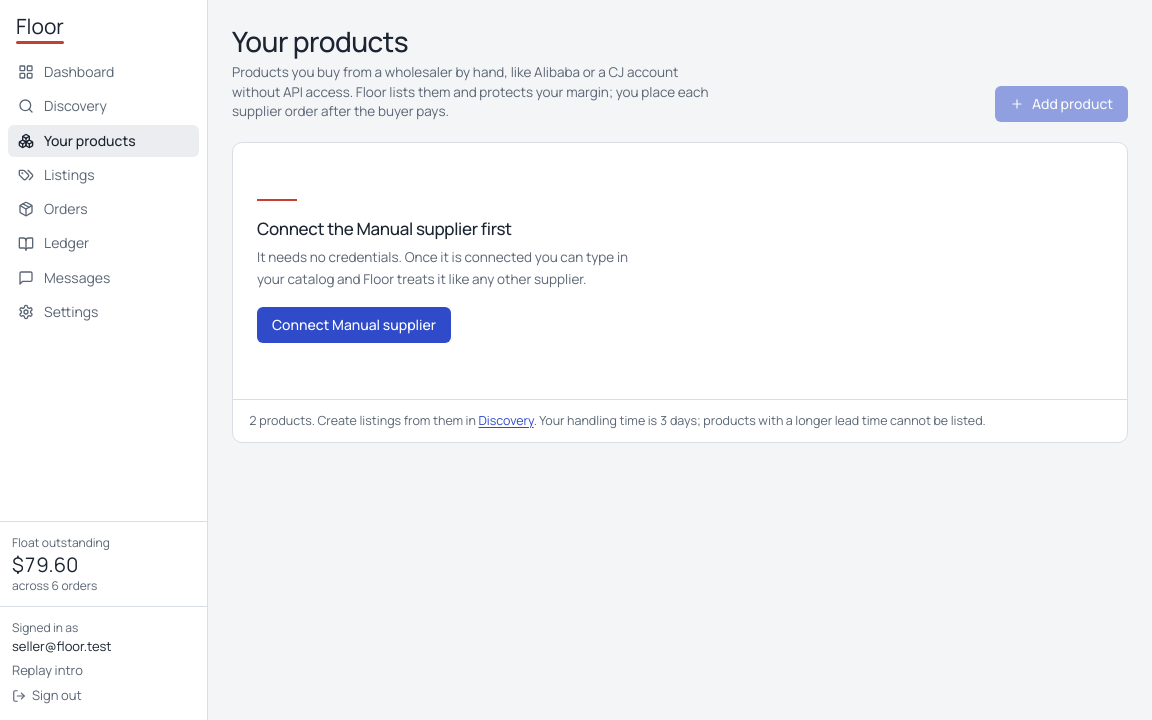
Test case: Your products › asks to connect the Manual supplier first when it is not connected
The image size is (1152, 720).
expect the heading "Connect the Manual supplier first" is shown: met, box [257,217,512,241]
expect the button "Add product" is disabled: met, box [995,86,1128,122]
Click the button "Connect Manual supplier": (354, 325) [257,307,451,343]
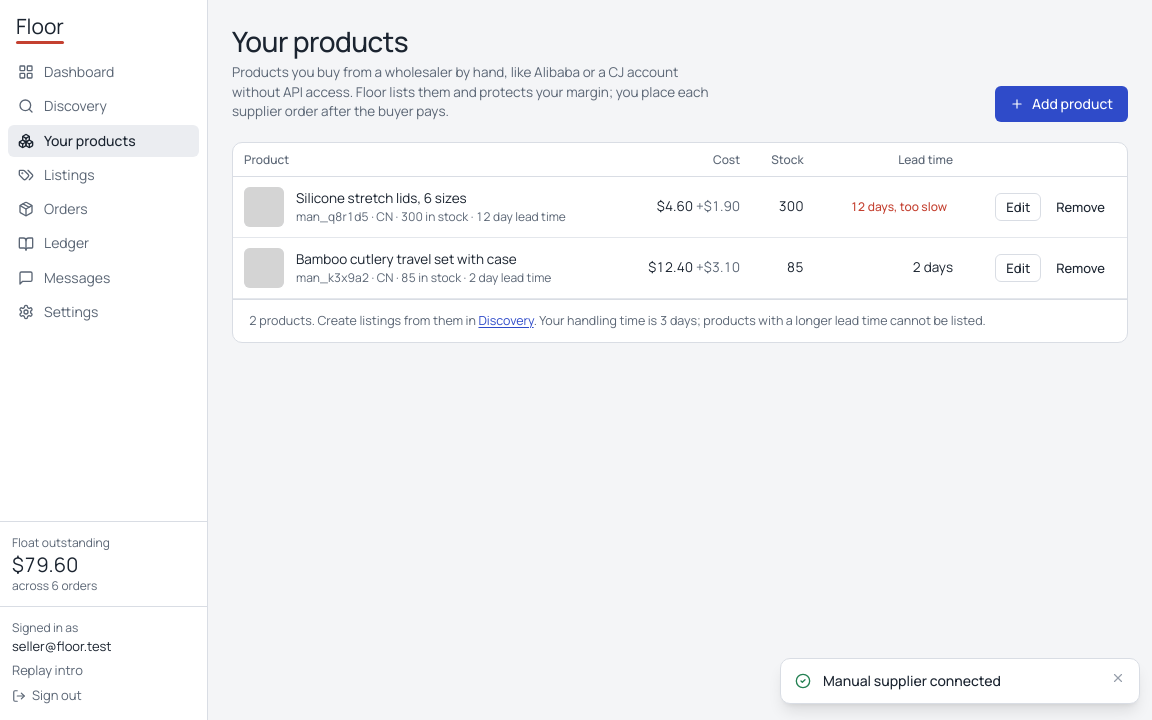
expect the button "Add product" is enabled: met, box [995,86,1128,122]
